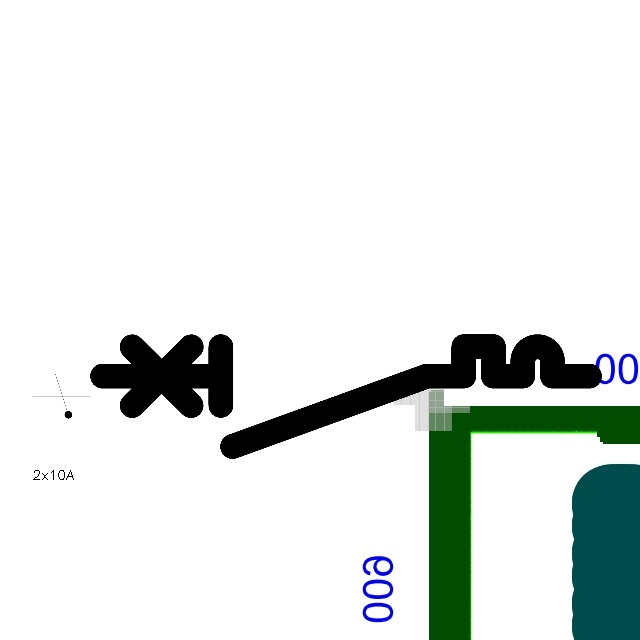interruptor_termomagnetico: (89, 334, 601, 459)
